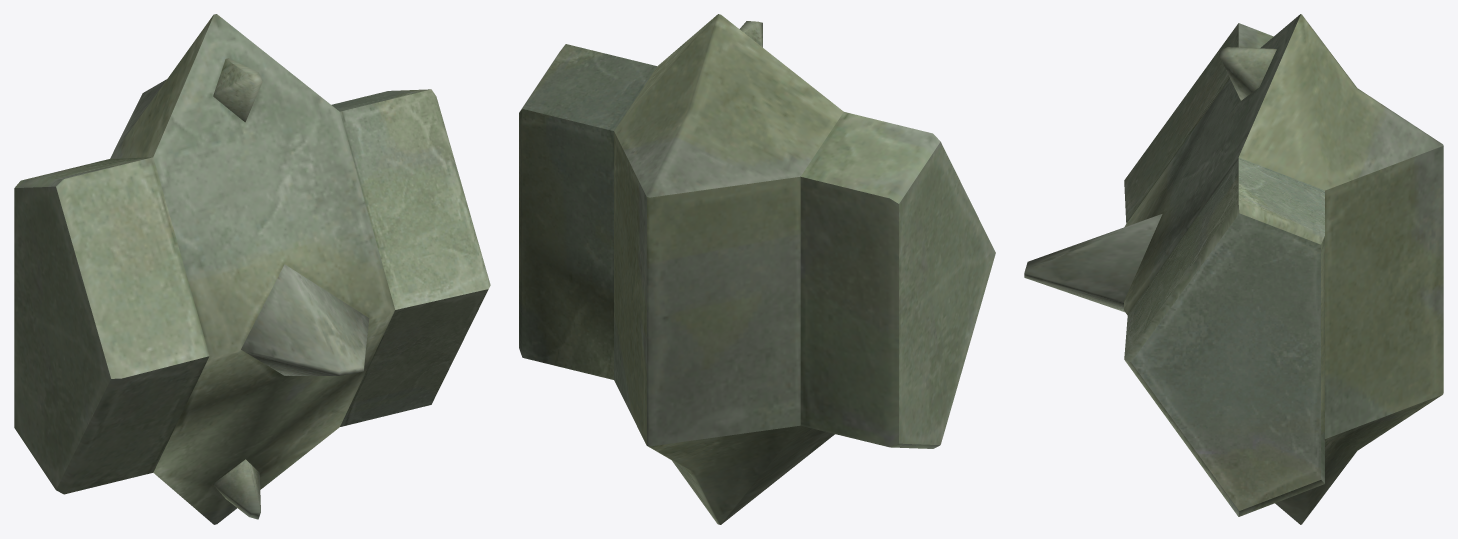
Rendered from Ruins_Trim_Cap_4M_A.fbx.
3 renders of one model, left to right at view 1: azimuth 30°, elevation 25°; view 2: azimuth 150°, elevation 25°; view 3: azimuth 270°, elevation 25°, orthographic.
Visible parts, largest first — view 1: Ruins_Trim_Cap_4M_A; view 2: Ruins_Trim_Cap_4M_A; view 3: Ruins_Trim_Cap_4M_A.
Boxes of the visible parts, left/top/right/bottom form: Ruins_Trim_Cap_4M_A: left=14, top=14, right=490, bottom=524; Ruins_Trim_Cap_4M_A: left=519, top=14, right=995, bottom=524; Ruins_Trim_Cap_4M_A: left=1024, top=14, right=1443, bottom=524.
Size of the model in its own units: 400 by 512 by 382.
